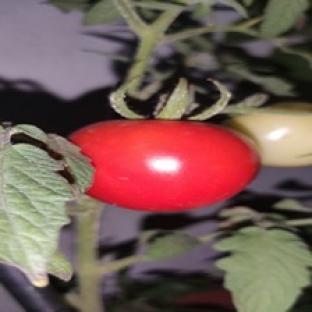Tomato: (70, 120, 259, 211), (225, 102, 311, 167), (179, 287, 235, 310)
